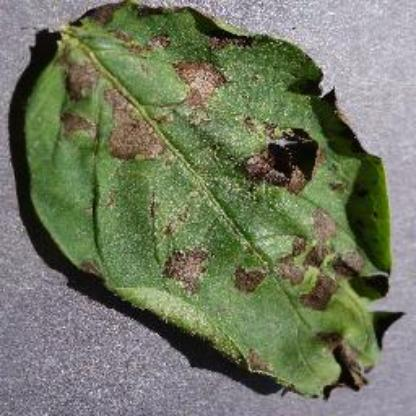Early-Blight: (22, 3, 404, 398)
